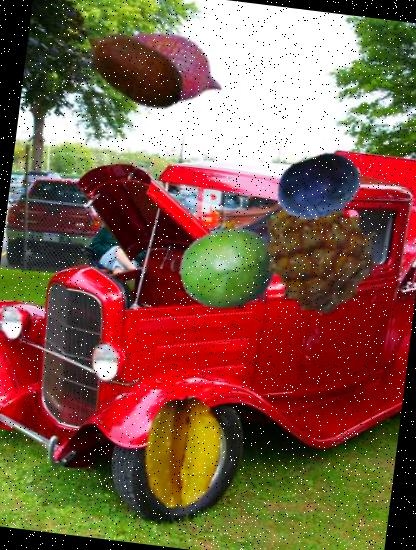Blueberry: (271, 139, 368, 236)
Carambula: (119, 390, 244, 516)
Mango: (173, 216, 283, 326)
Nut: (72, 7, 195, 130)
Pineapple: (246, 183, 384, 320)
Salak: (99, 1, 234, 136)
